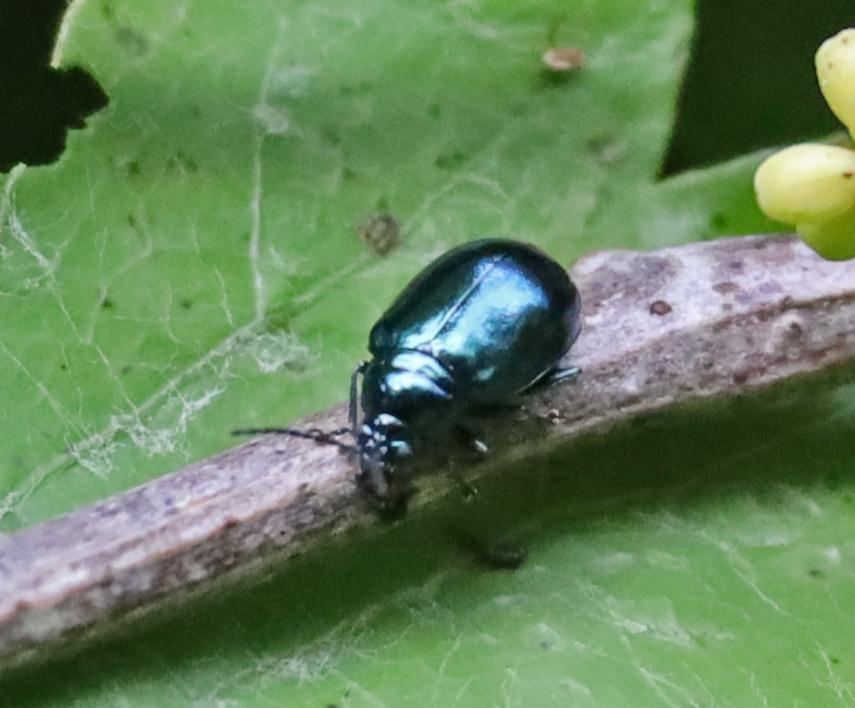flea_beetle: (206, 182, 663, 568)
